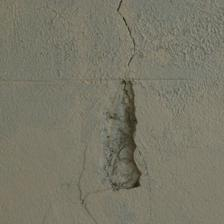Crack: (49, 23, 100, 118), (0, 82, 58, 152), (9, 97, 61, 124)
